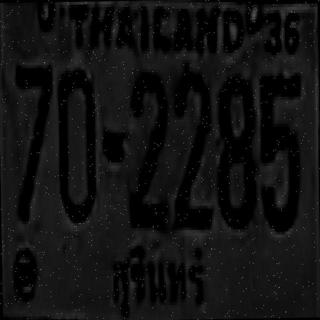N00: (56, 67, 95, 220)
N02: (127, 69, 168, 225), (171, 68, 211, 227)
N05: (258, 71, 302, 227)
N07: (14, 60, 54, 219)
N08: (214, 70, 255, 226)
P68: (103, 234, 214, 315)
